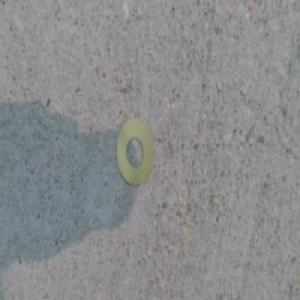Washer: (114, 114, 153, 185)
